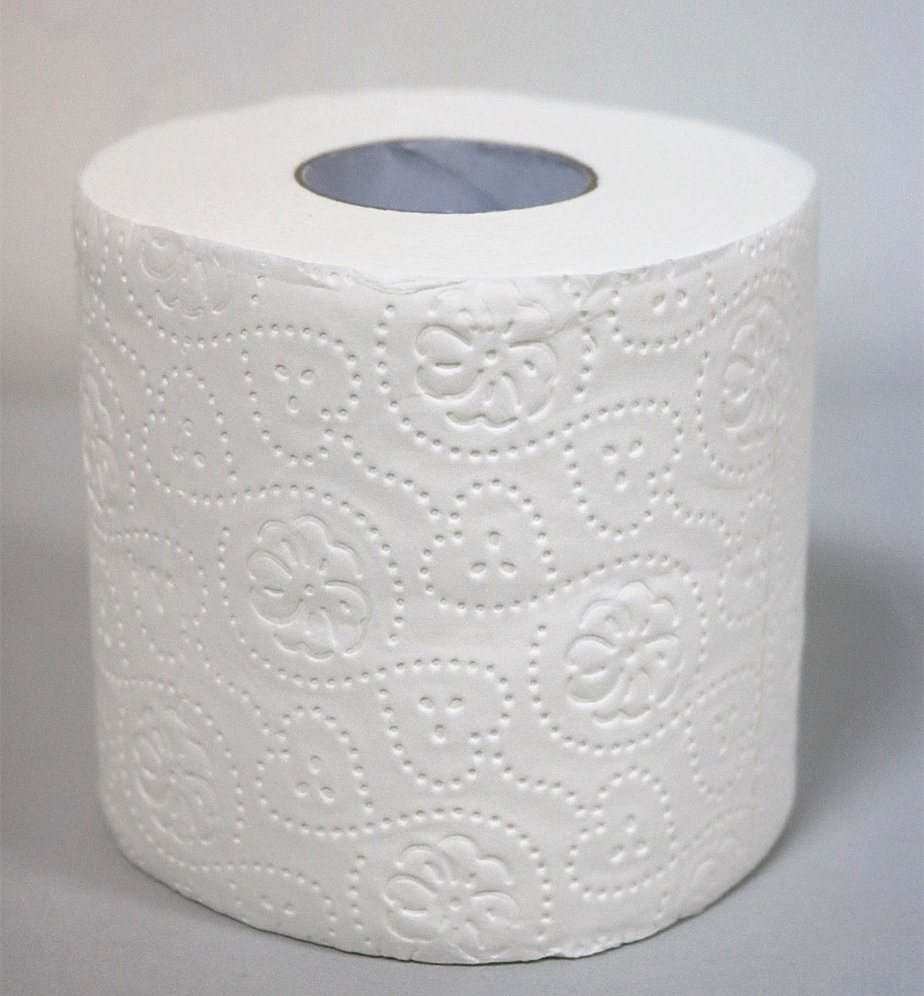Tissue: (69, 82, 823, 968)
